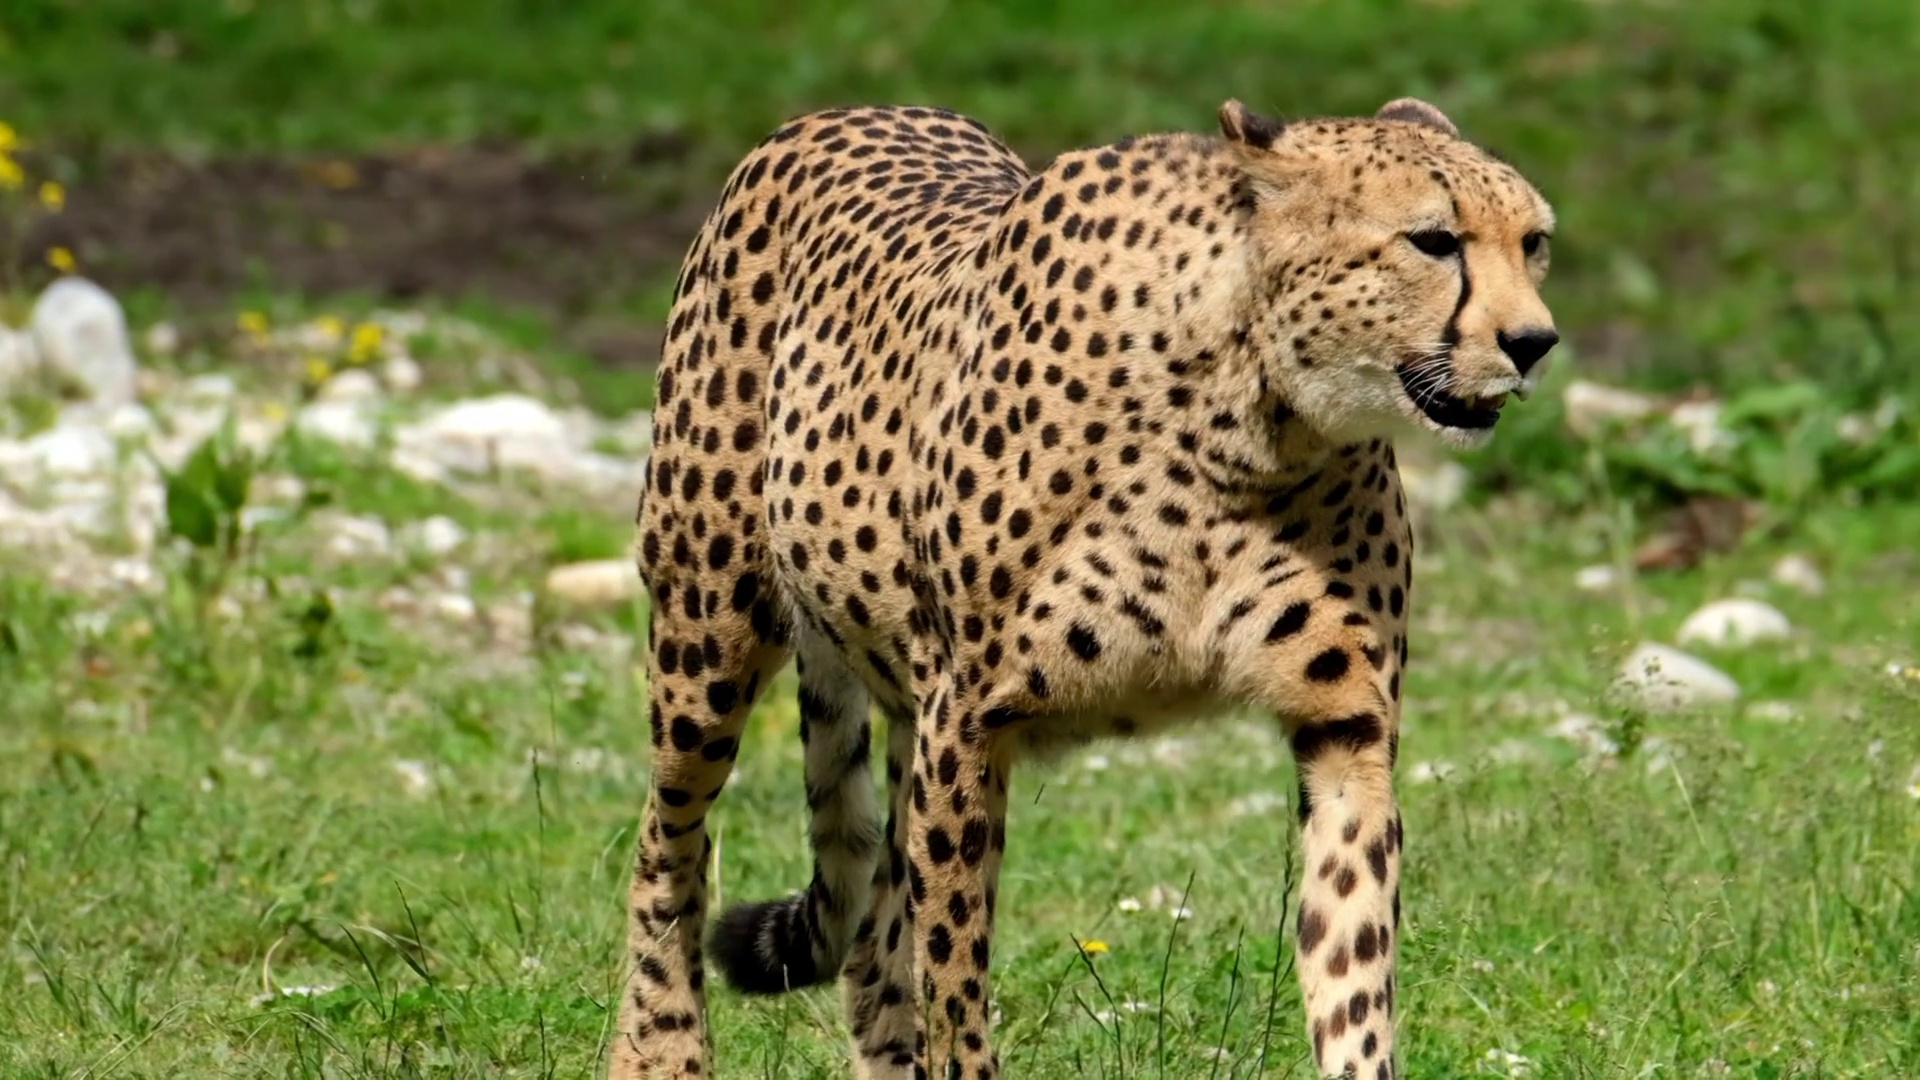Cheetah: (608, 91, 1563, 1080)
